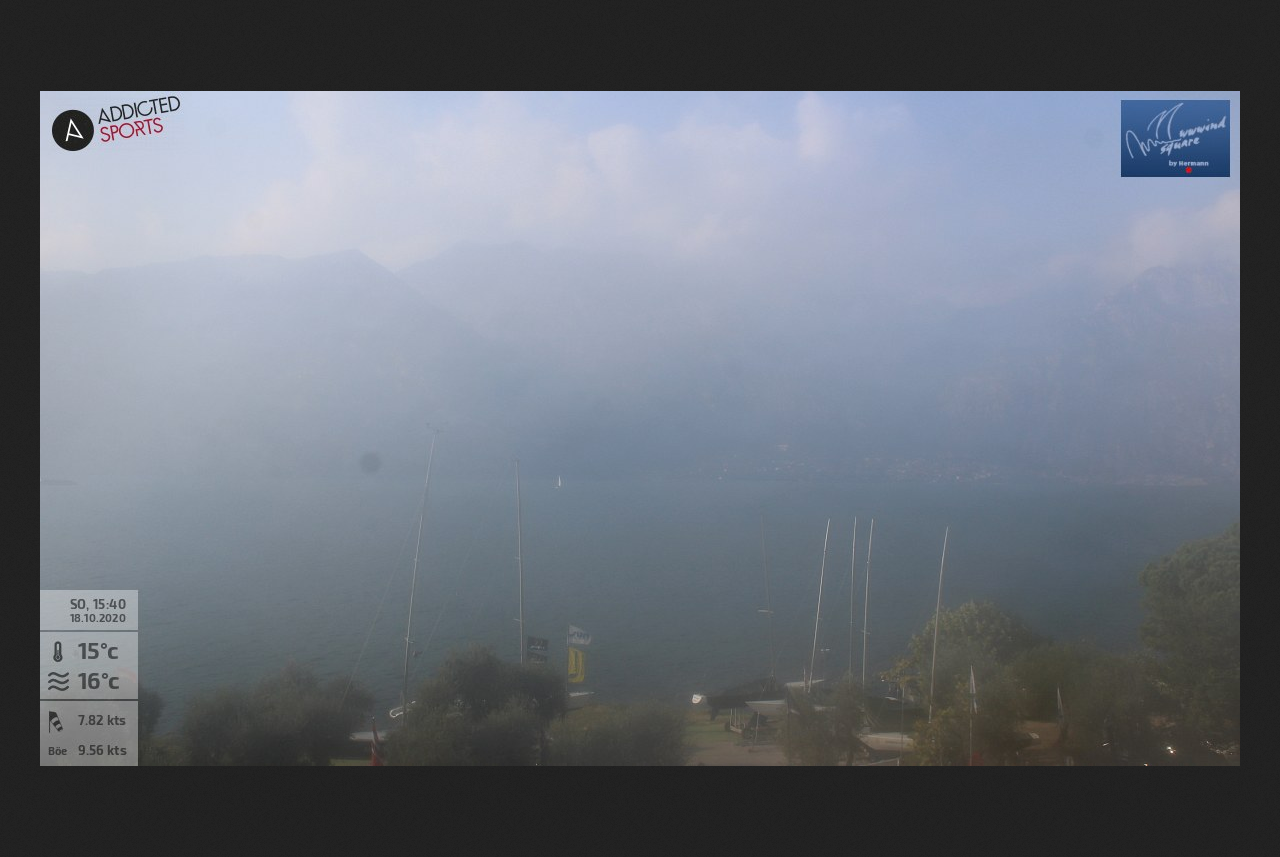yes: (563, 645, 590, 686), (524, 632, 552, 669), (563, 620, 594, 648)
